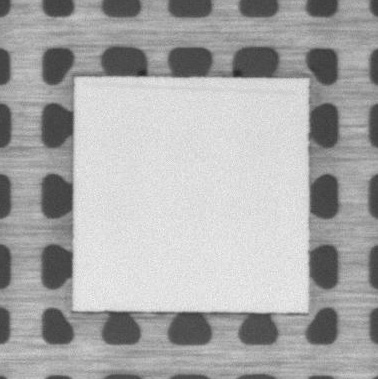DIE_CRACK: (84, 84, 294, 93)
